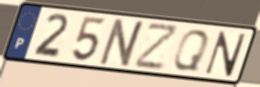2: (31, 12, 69, 59)
5: (71, 15, 107, 63)
N: (96, 17, 149, 69), (202, 30, 249, 79)
Q: (170, 28, 212, 73)
Z: (133, 23, 182, 72)
